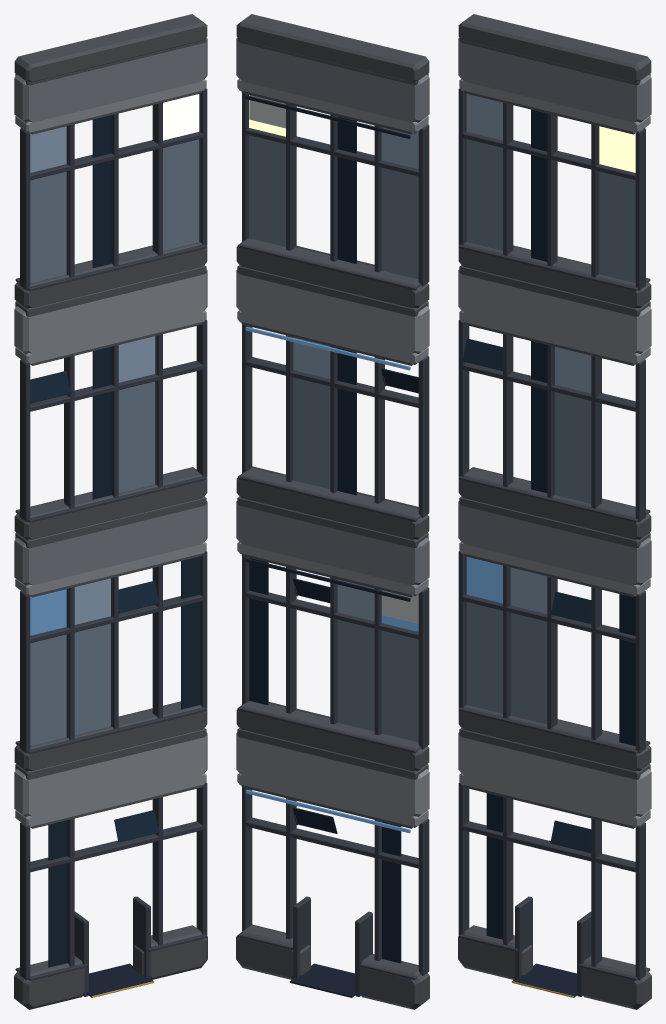
Rendered from spire_facade_v1.glb.
3 renders of one model, left to right at view 1: azimuth 30°, elevation 25°; view 2: azimuth 150°, elevation 25°; view 3: azimuth 330°, elevation 25°, orthographic.
Parts seen in each view (by area): view 1: spire_facade_spandrel0, spire_facade_spandrel1, spire_facade_spandrel2, spire_facade_spandrel3, spire_facade_parapet, spire_facade_sill2, spire_facade_sill3, spire_facade_sill1, spire_facade_pane2_2_lo, spire_facade_pane1_0_lo, spire_facade_pane3_0_lo, spire_facade_pane3_3_lo (+56 smaller); view 2: spire_facade_spandrel0, spire_facade_spandrel1, spire_facade_spandrel2, spire_facade_spandrel3, spire_facade_parapet, spire_facade_sill2, spire_facade_sill1, spire_facade_sill3, spire_facade_pane1_1_lo, spire_facade_pane2_2_lo, spire_facade_pane3_0_lo, spire_facade_pane1_0_lo (+60 smaller); view 3: spire_facade_spandrel0, spire_facade_spandrel1, spire_facade_spandrel2, spire_facade_spandrel3, spire_facade_parapet, spire_facade_sill2, spire_facade_sill3, spire_facade_sill1, spire_facade_pane1_1_lo, spire_facade_pane1_0_lo, spire_facade_pane2_2_lo, spire_facade_pane3_0_lo (+56 smaller).
Part boxes in pixels (x1,y1,x2,y2): spire_facade_spandrel0: (14, 732, 207, 816); spire_facade_spandrel1: (14, 501, 207, 585); spire_facade_spandrel2: (14, 270, 207, 353); spire_facade_spandrel3: (14, 38, 207, 122); spire_facade_parapet: (14, 14, 207, 82); spire_facade_sill2: (14, 467, 207, 539); spire_facade_sill3: (14, 242, 207, 308); spire_facade_sill1: (14, 702, 207, 771); spire_facade_pane2_2_lo: (118, 381, 155, 492); spire_facade_pane1_0_lo: (30, 634, 66, 745); spire_facade_pane3_0_lo: (30, 171, 66, 282); spire_facade_pane3_3_lo: (163, 139, 199, 250); spire_facade_spandrel0: (236, 732, 429, 816); spire_facade_spandrel1: (236, 501, 429, 585); spire_facade_spandrel2: (236, 270, 429, 353); spire_facade_spandrel3: (236, 38, 429, 122); spire_facade_parapet: (236, 14, 429, 82); spire_facade_sill2: (236, 468, 429, 539); spire_facade_sill1: (236, 701, 429, 771); spire_facade_sill3: (236, 238, 429, 308); spire_facade_pane1_1_lo: (337, 620, 374, 731); spire_facade_pane2_2_lo: (293, 377, 330, 489); spire_facade_pane3_0_lo: (381, 167, 418, 279); spire_facade_pane1_0_lo: (381, 630, 418, 742); spire_facade_spandrel0: (458, 732, 651, 816); spire_facade_spandrel1: (458, 501, 651, 585); spire_facade_spandrel2: (458, 270, 651, 353); spire_facade_spandrel3: (458, 38, 651, 122); spire_facade_parapet: (458, 14, 651, 82); spire_facade_sill2: (458, 467, 651, 539); spire_facade_sill3: (458, 242, 651, 308); spire_facade_sill1: (458, 705, 651, 771); spire_facade_pane1_1_lo: (510, 613, 547, 724); spire_facade_pane1_0_lo: (466, 602, 502, 713); spire_facade_pane2_2_lo: (555, 392, 591, 503); spire_facade_pane3_0_lo: (466, 139, 502, 250).
Size of the model in its own units: 8.38 by 40.9 by 1.91.
